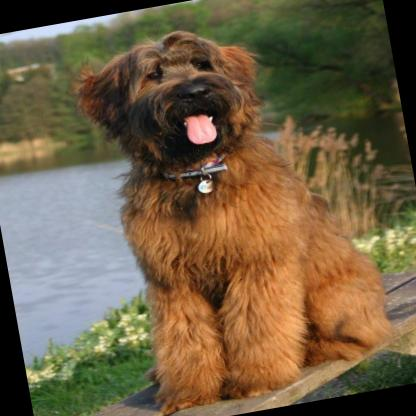briard: (67, 1, 397, 416)
